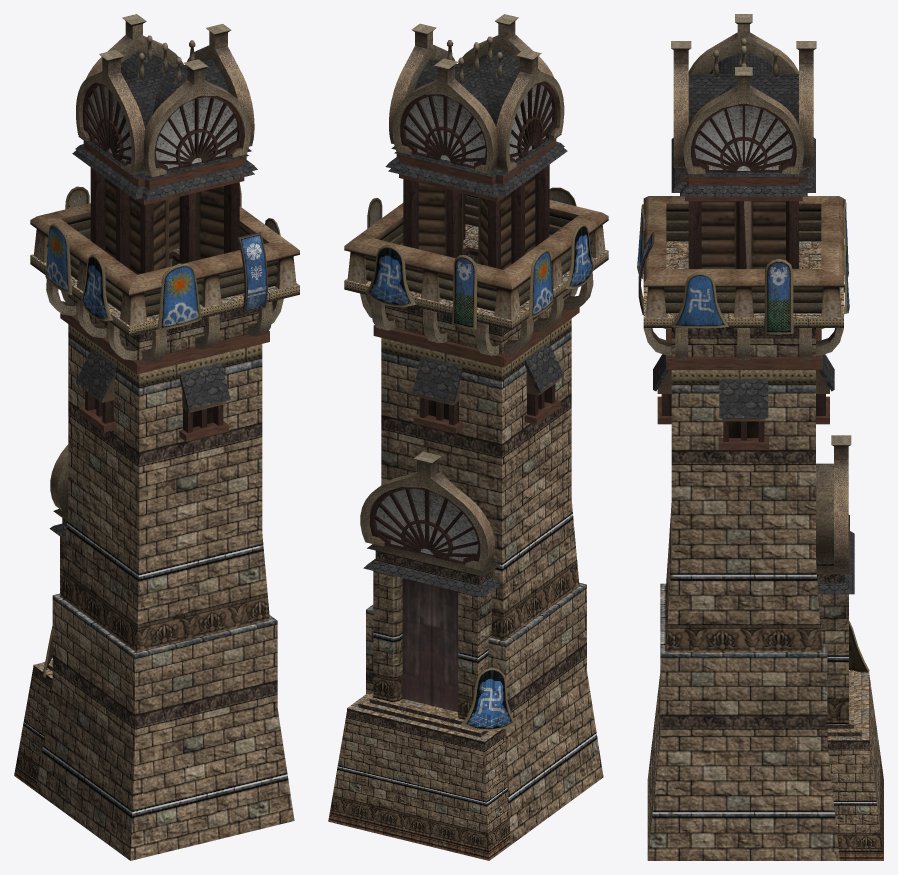
Rendered from maur_scout_tower.glb.
3 renders of one model, left to right at view 1: azimuth 30°, elevation 25°; view 2: azimuth 150°, elevation 25°; view 3: azimuth 270°, elevation 25°, orthographic. The views are drawn at different scales.
Parts seen in each view (by area): view 1: maur_scout_tower_part0, maur_scout_tower_part6, maur_scout_tower_part2, maur_scout_tower_part4, maur_scout_tower_part1; view 2: maur_scout_tower_part0, maur_scout_tower_part6, maur_scout_tower_part1, maur_scout_tower_part5, maur_scout_tower_part2; view 3: maur_scout_tower_part0, maur_scout_tower_part6, maur_scout_tower_part5, maur_scout_tower_part3, maur_scout_tower_part1.
Part boxes in pixels (bbox=[...]): maur_scout_tower_part0: bbox=[14, 14, 299, 860]; maur_scout_tower_part6: bbox=[49, 51, 269, 539]; maur_scout_tower_part2: bbox=[45, 223, 201, 330]; maur_scout_tower_part4: bbox=[238, 232, 267, 312]; maur_scout_tower_part1: bbox=[43, 254, 112, 677]; maur_scout_tower_part0: bbox=[328, 14, 608, 860]; maur_scout_tower_part6: bbox=[363, 50, 579, 711]; maur_scout_tower_part1: bbox=[365, 223, 594, 731]; maur_scout_tower_part5: bbox=[367, 198, 477, 329]; maur_scout_tower_part2: bbox=[528, 187, 576, 318]; maur_scout_tower_part0: bbox=[643, 14, 883, 860]; maur_scout_tower_part6: bbox=[653, 52, 854, 594]; maur_scout_tower_part5: bbox=[764, 199, 848, 334]; maur_scout_tower_part3: bbox=[671, 272, 728, 328]; maur_scout_tower_part1: bbox=[843, 245, 869, 672].
Bounding box in the file's own units: 1.71 × 6.93 × 2.
Materials: 7 (7 with a texture image).
